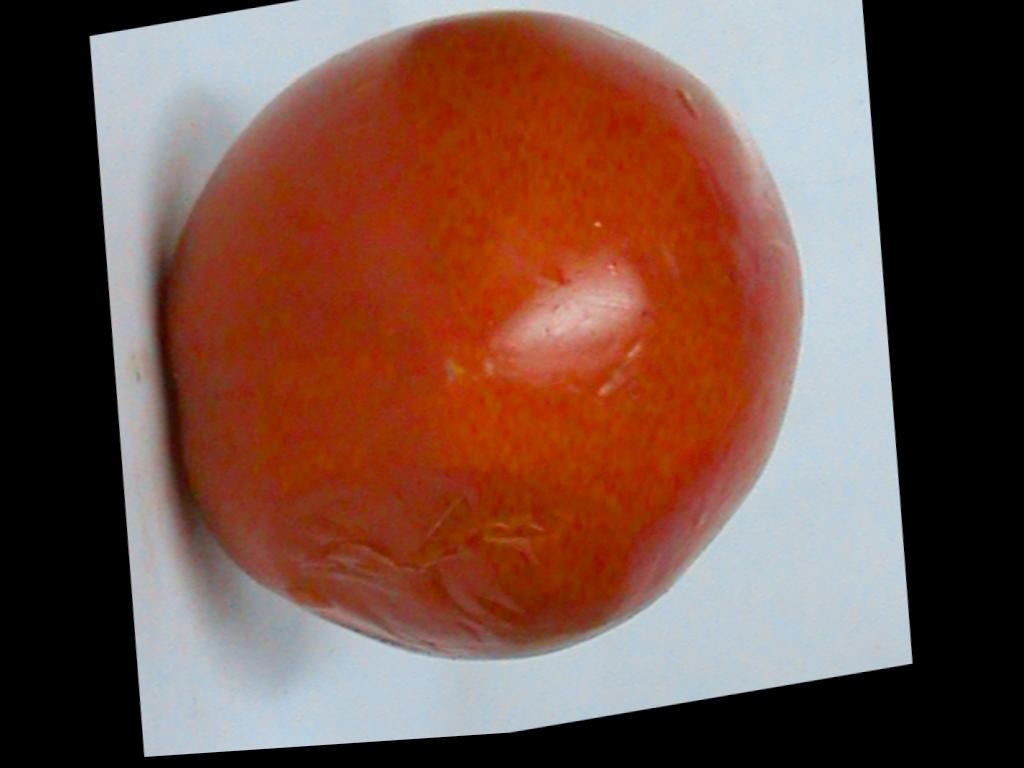bruise_discoloration: (279, 457, 612, 666)
tomato: (167, 13, 801, 659)
